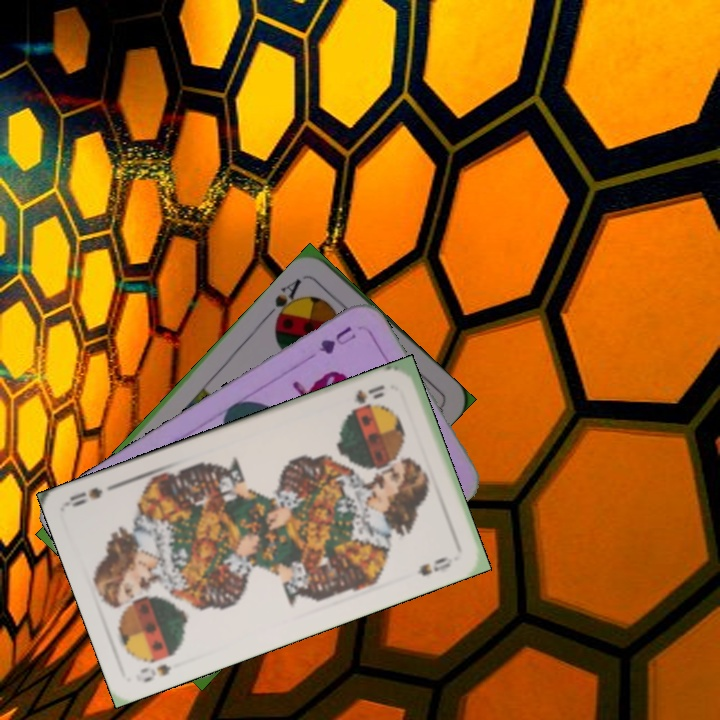GU: (315, 322, 360, 357)
SA: (263, 274, 305, 326)
SO: (347, 381, 387, 414), (136, 659, 174, 685)
